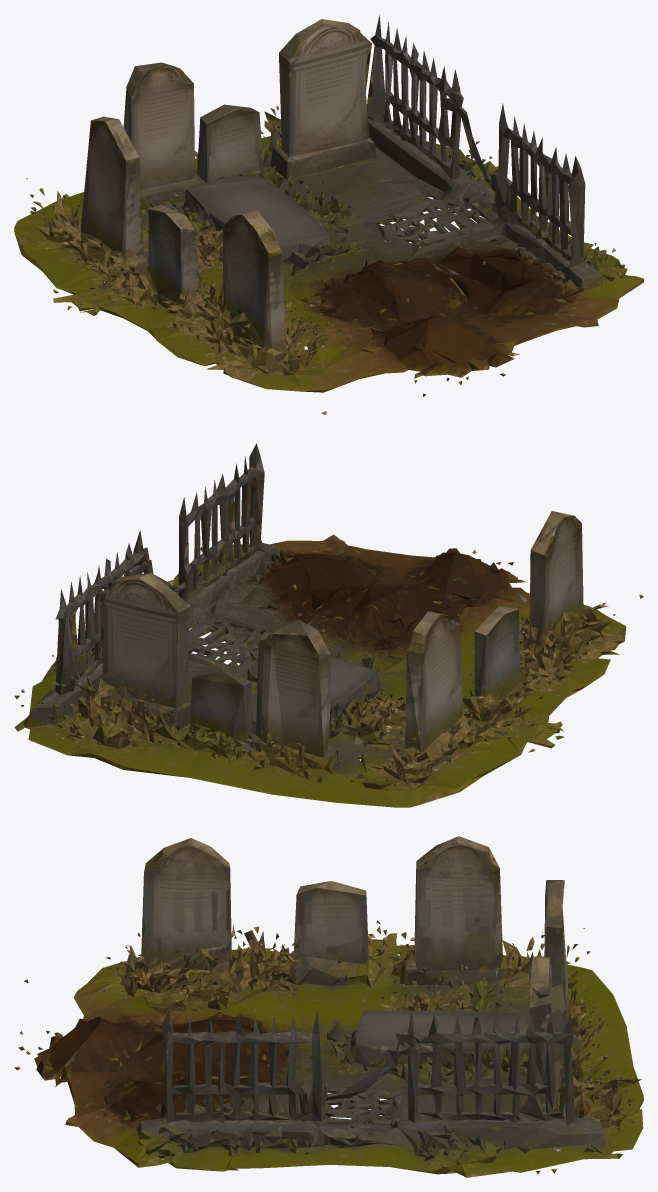
The model's file is graveyard.glb.
3 views of the same model, one above another, from view 1: azimuth 30°, elevation 25°; view 2: azimuth 150°, elevation 25°; view 3: azimuth 270°, elevation 25° (orthographic). The views are drawn at different scales.
Visible parts, largest first — view 1: textured_mesh.obj; view 2: textured_mesh.obj; view 3: textured_mesh.obj.
Part boxes in pixels (left/top/right/bottom): textured_mesh.obj: left=14, top=15, right=643, bottom=414; textured_mesh.obj: left=14, top=443, right=643, bottom=807; textured_mesh.obj: left=14, top=836, right=643, bottom=1177.
Bounding box in the file's own units: 1.54 × 0.4932 × 1.74.
Materials: 1 (1 with a texture image).
